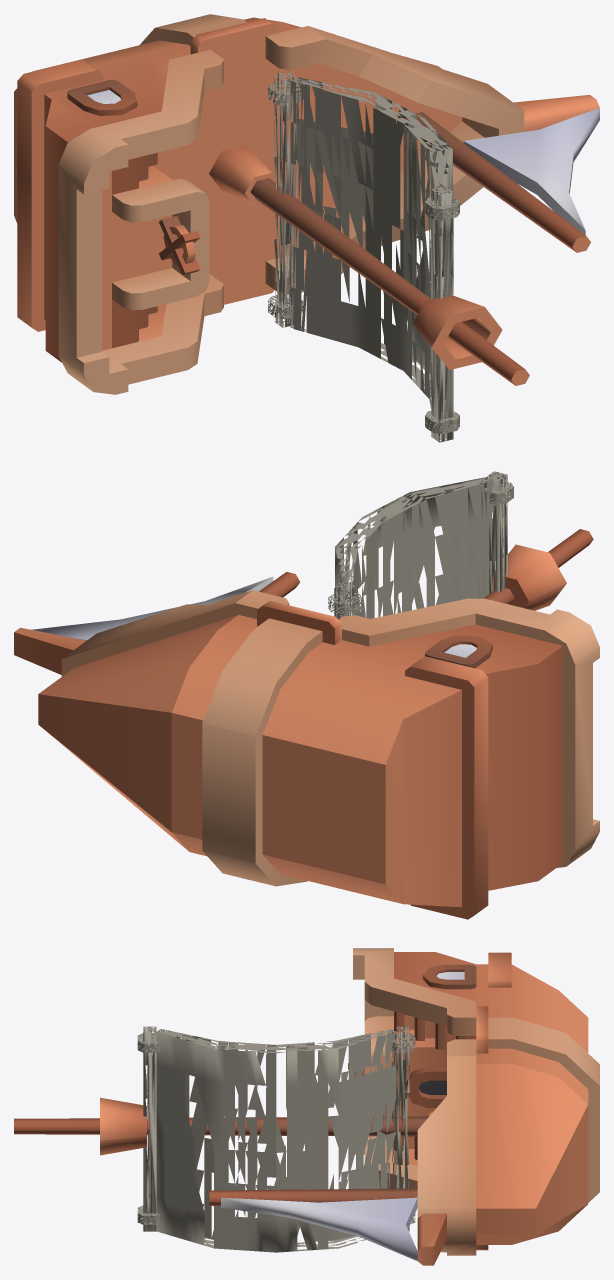
The model's file is SM_Wreck_Small.obj.
The picture shows the model from 3 angles, top to bottom: view 1: azimuth 30°, elevation 25°; view 2: azimuth 150°, elevation 25°; view 3: azimuth 270°, elevation 25°; orthographic projection. The views are drawn at different scales.
Parts seen in each view (by area): view 1: SM_Wreck_Small; view 2: SM_Wreck_Small; view 3: SM_Wreck_Small.
Boxes of the visible parts, <box> form: SM_Wreck_Small: <box>14,14,599,442</box>; SM_Wreck_Small: <box>14,471,599,919</box>; SM_Wreck_Small: <box>14,948,599,1265</box>.
Bounding box in the file's own units: 2700 × 1252 × 3057.
2 materials, 1 textured.
